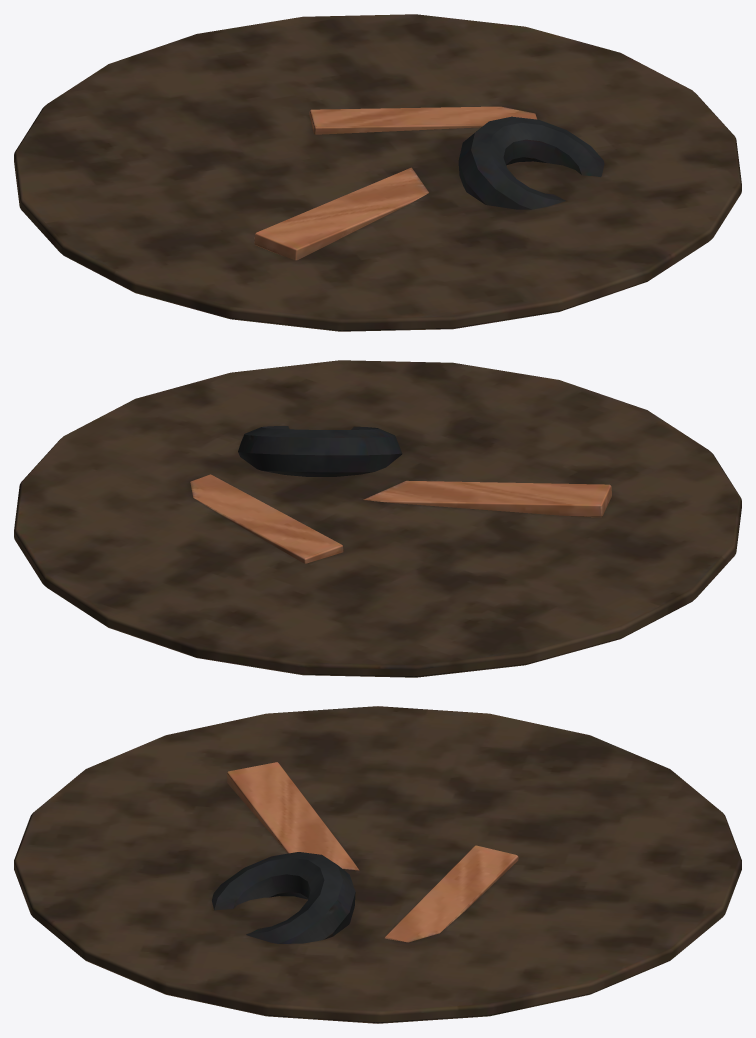
The model's file is mud_puddle_rim.glb.
The picture shows the model from 3 angles, top to bottom: view 1: azimuth 30°, elevation 25°; view 2: azimuth 150°, elevation 25°; view 3: azimuth 270°, elevation 25°; orthographic projection.
Parts seen in each view (by area): view 1: MudPuddleRim; view 2: MudPuddleRim; view 3: MudPuddleRim.
Part boxes in pixels (box(x1,y1,x2,y2)): MudPuddleRim: box(14, 14, 741, 331); MudPuddleRim: box(14, 360, 741, 677); MudPuddleRim: box(14, 706, 741, 1023).
Bounding box in the file's own units: 4.19 × 0.5217 × 4.19.
Materials: 1 (1 with a texture image).
